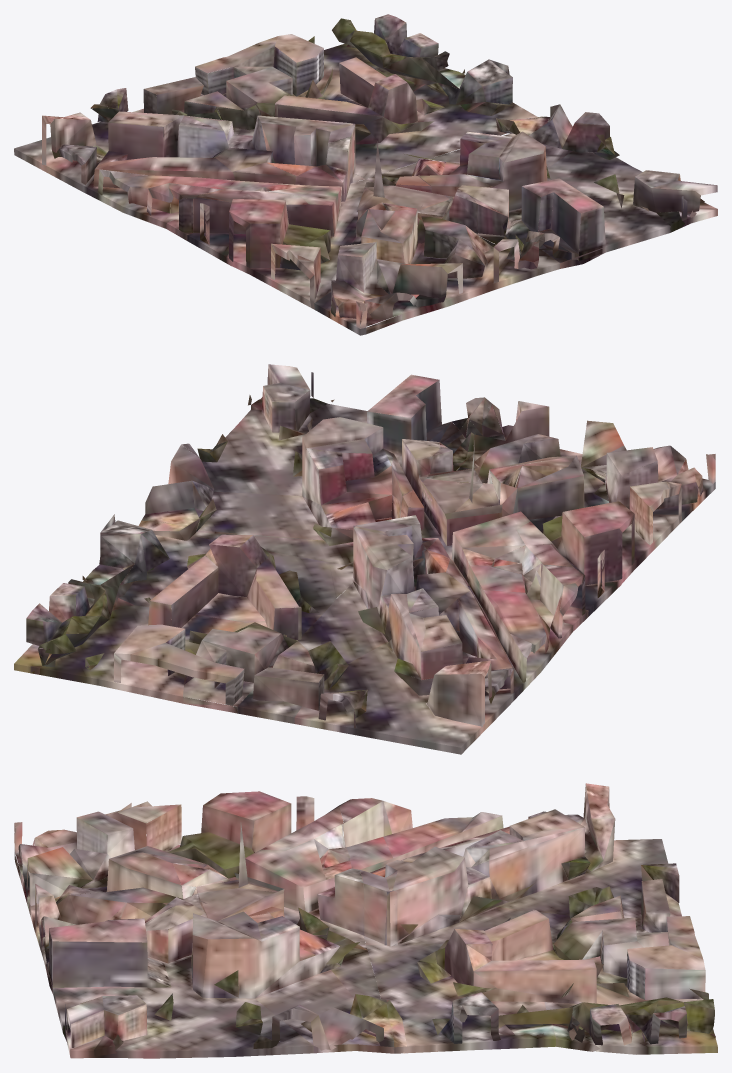
3 views of the same model, one above another, from view 1: azimuth 30°, elevation 25°; view 2: azimuth 150°, elevation 25°; view 3: azimuth 270°, elevation 25° (orthographic). The views are drawn at different scales.
Visible parts, largest first — view 1: Mesh_0; view 2: Mesh_0; view 3: Mesh_0.
Boxes of the visible parts, bbox=[...] form: Mesh_0: bbox=[14, 14, 717, 335]; Mesh_0: bbox=[14, 364, 715, 754]; Mesh_0: bbox=[14, 783, 717, 1058].
Bounding box in the file's own units: 266 × 63.15 × 330.
Materials: 2 (2 with a texture image).
